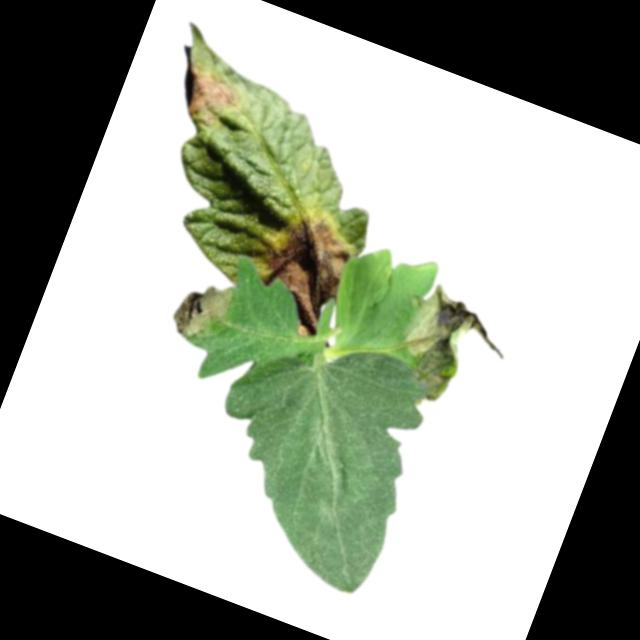Late_blight: (381, 280, 523, 430), (245, 202, 367, 344), (167, 271, 239, 350), (179, 63, 245, 130)
healthy: (177, 306, 446, 598)
